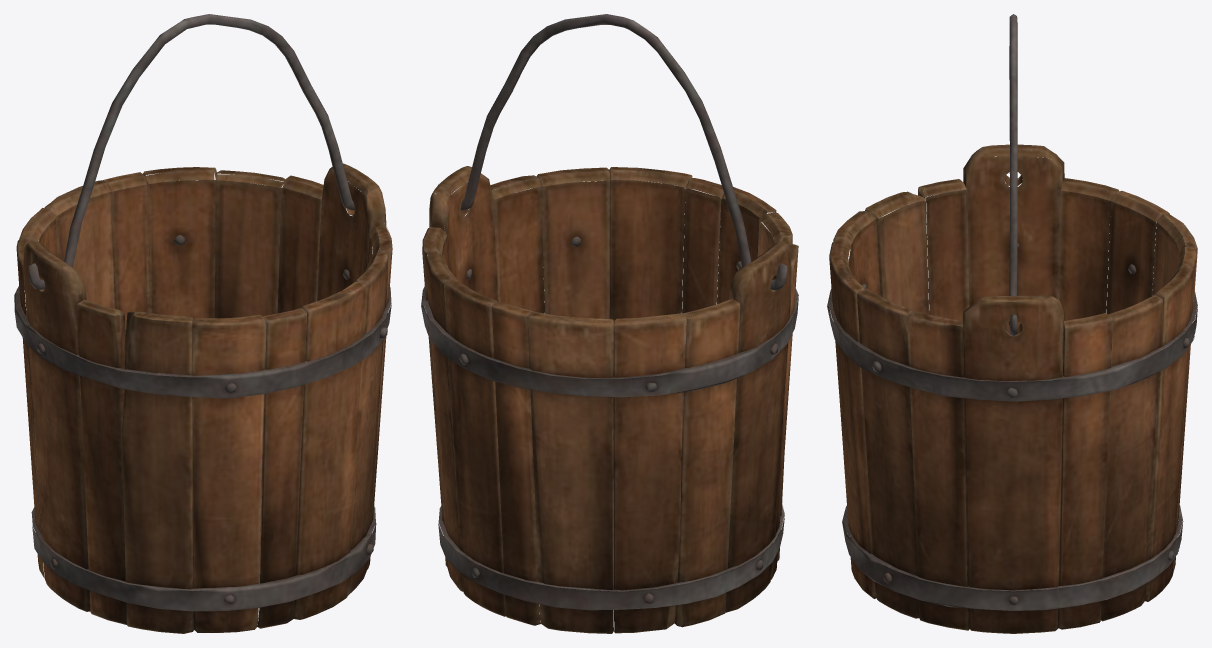
3 renders of one model, left to right at view 1: azimuth 30°, elevation 25°; view 2: azimuth 150°, elevation 25°; view 3: azimuth 270°, elevation 25°, orthographic.
Size of the model in its own units: 0.3668 by 0.5501 by 0.3419.
1 material, 1 textured.
